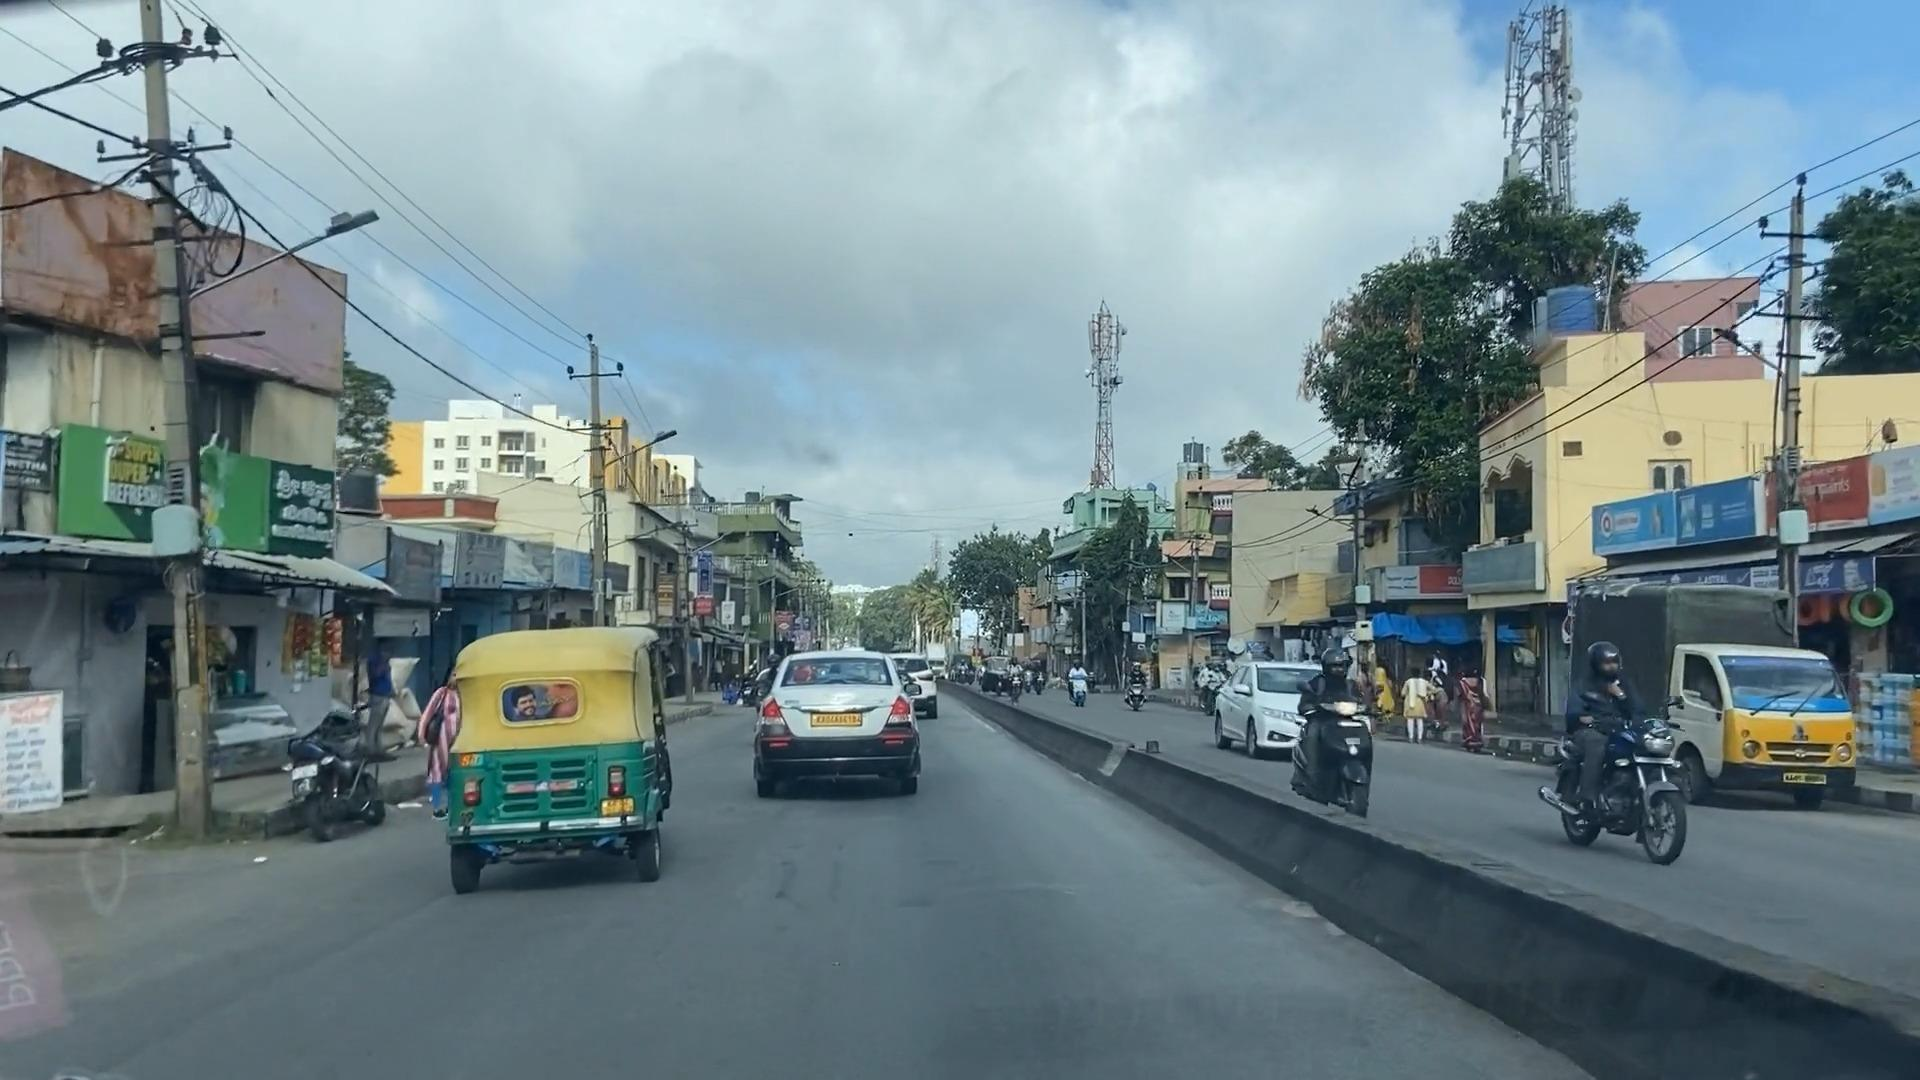LMV: (462, 628, 661, 881), (752, 658, 923, 799), (298, 704, 385, 836)
